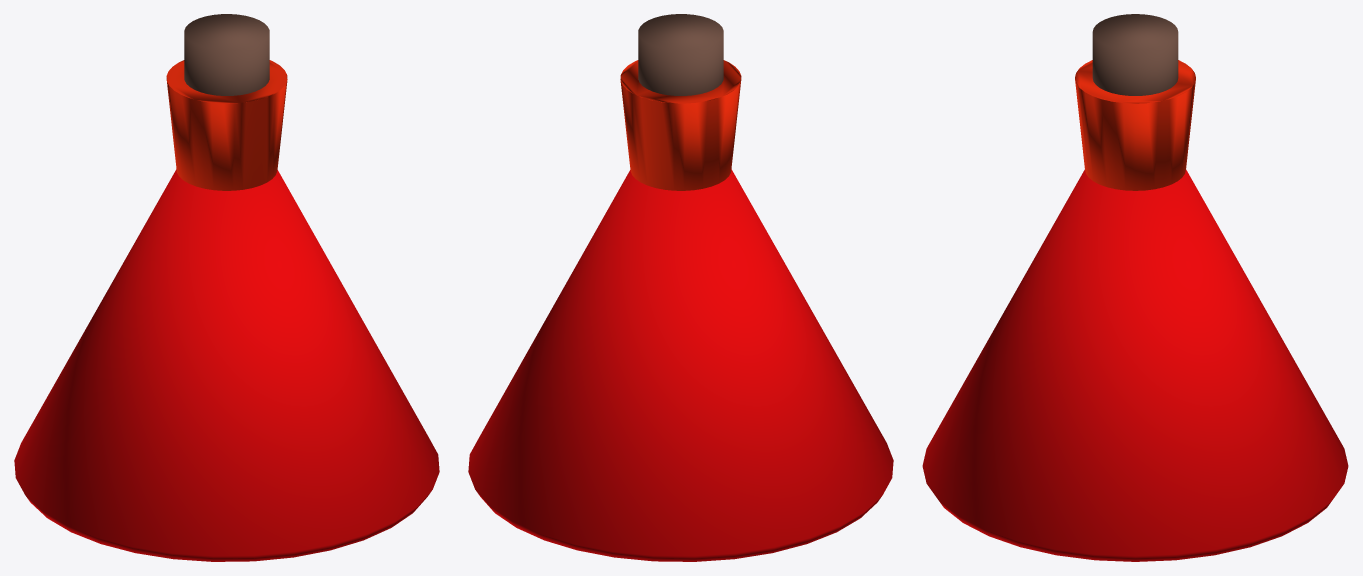
File: RED CONE POTION.glb
3 renders of one model, left to right at view 1: azimuth 30°, elevation 25°; view 2: azimuth 150°, elevation 25°; view 3: azimuth 270°, elevation 25°, orthographic.
Parts seen in each view (by area): view 1: Cone, Cylinder; view 2: Cone, Cylinder; view 3: Cone, Cylinder.
Boxes of the visible parts, left/top/right/bottom form: Cone: left=14, top=169, right=439, bottom=561; Cylinder: left=166, top=14, right=287, bottom=190; Cone: left=468, top=169, right=893, bottom=561; Cylinder: left=620, top=14, right=741, bottom=190; Cone: left=922, top=169, right=1348, bottom=561; Cylinder: left=1075, top=14, right=1195, bottom=190.
Size of the model in its own units: 1.96 by 2.24 by 1.96.
